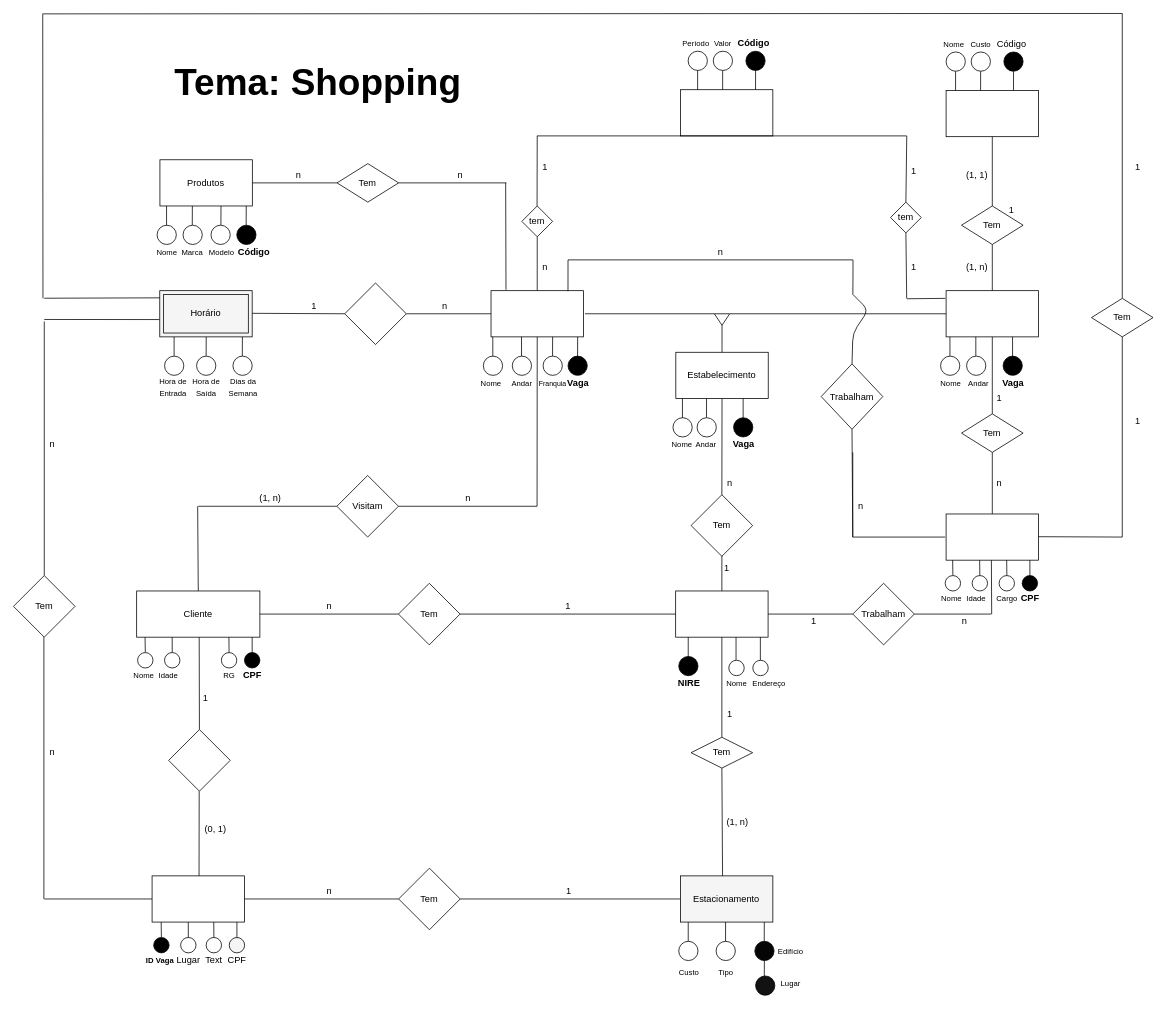
This 1167x1009 diagram has some shape labels left out. Here are the shapes that lost their labels. From the top down, the centre of each, then its label:
At pixel 726 112: "Faturamento".
At pixel 991 113: "Cardápio".
At pixel 375 313: "Está aberto em".
At pixel 536 313: "Loja".
At pixel 991 313: "Restaurante".
At pixel 991 536: "Funcionário".
At pixel 721 613: "Shopping".
At pixel 199 760: "Ocupa".
At pixel 197 898: "Vagas".
